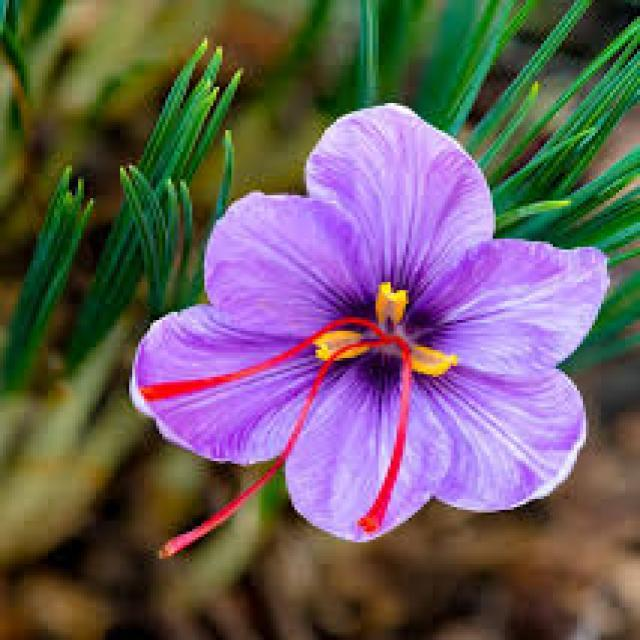Flower: (122, 107, 612, 565)
stigma: (163, 399, 318, 557), (134, 316, 389, 398), (354, 367, 418, 533)
